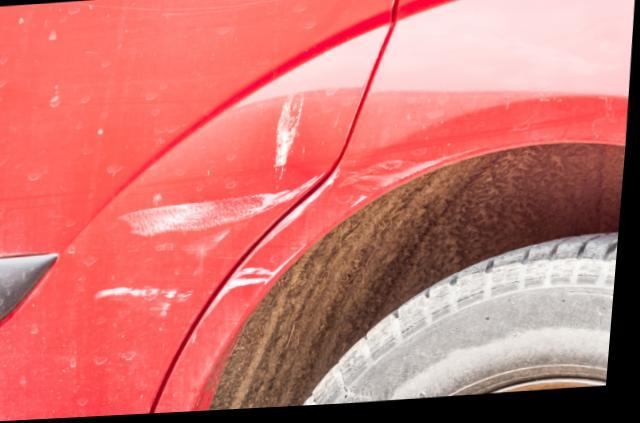scratch: (120, 94, 325, 244), (193, 168, 346, 341), (92, 282, 197, 319)
